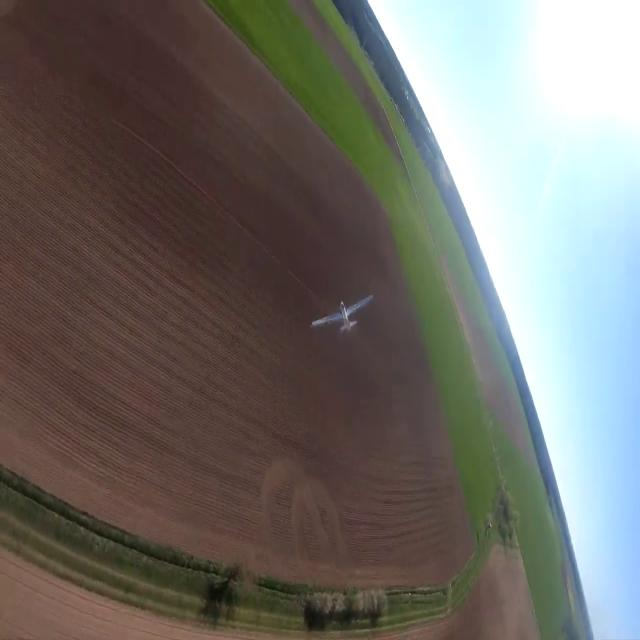iha: (309, 292, 372, 332)
